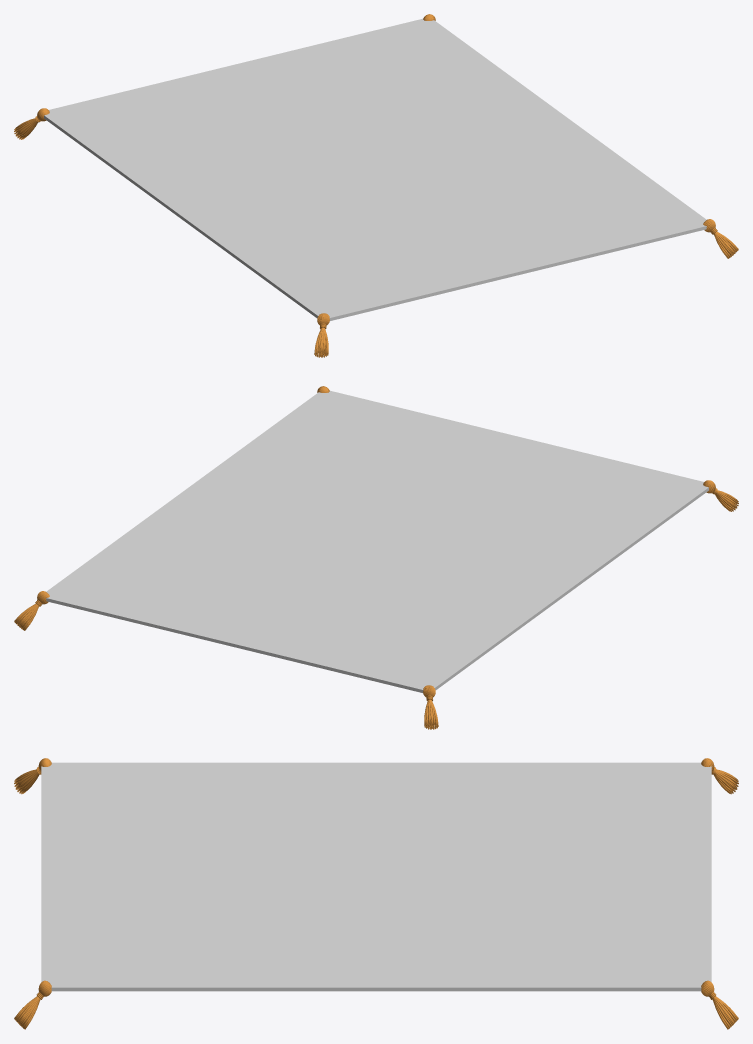
File: Magic_Carpet.fbx
The picture shows the model from 3 angles, top to bottom: view 1: azimuth 30°, elevation 25°; view 2: azimuth 150°, elevation 25°; view 3: azimuth 270°, elevation 25°; orthographic projection. The views are drawn at different scales.
Visible parts, largest first — view 1: CARPET, TASSELS; view 2: CARPET, TASSELS; view 3: CARPET, TASSELS.
Boxes of the visible parts, x1,y1,x2,y2 form: CARPET: (44, 18, 706, 320); TASSELS: (14, 14, 738, 357); CARPET: (46, 390, 708, 692); TASSELS: (14, 386, 738, 729); CARPET: (41, 762, 711, 991); TASSELS: (14, 758, 738, 1029).
Size of the model in its own units: 866 by 68.29 by 1085.
